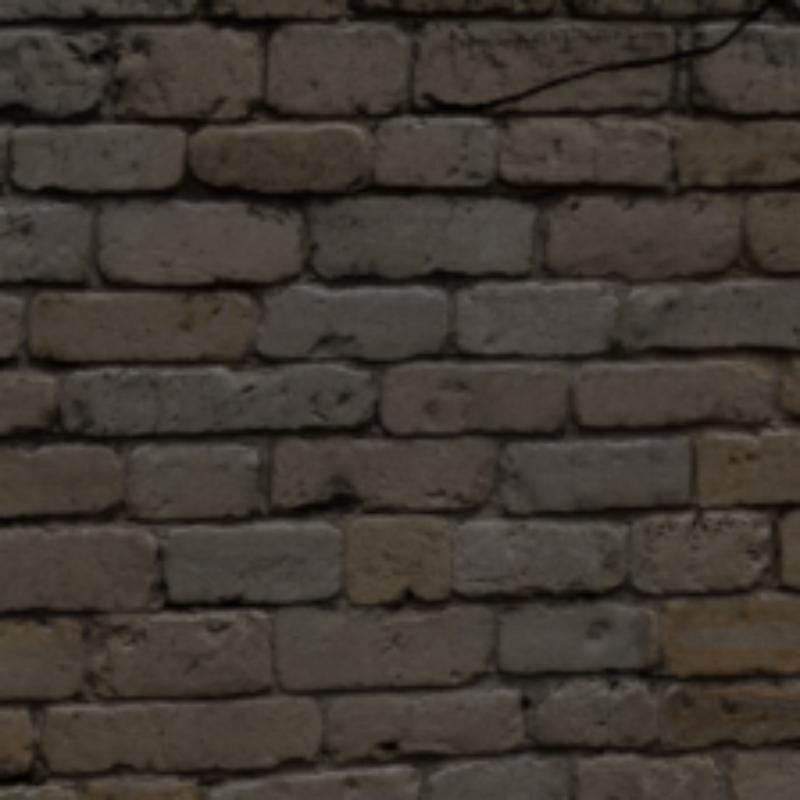crack: (425, 0, 775, 107)
